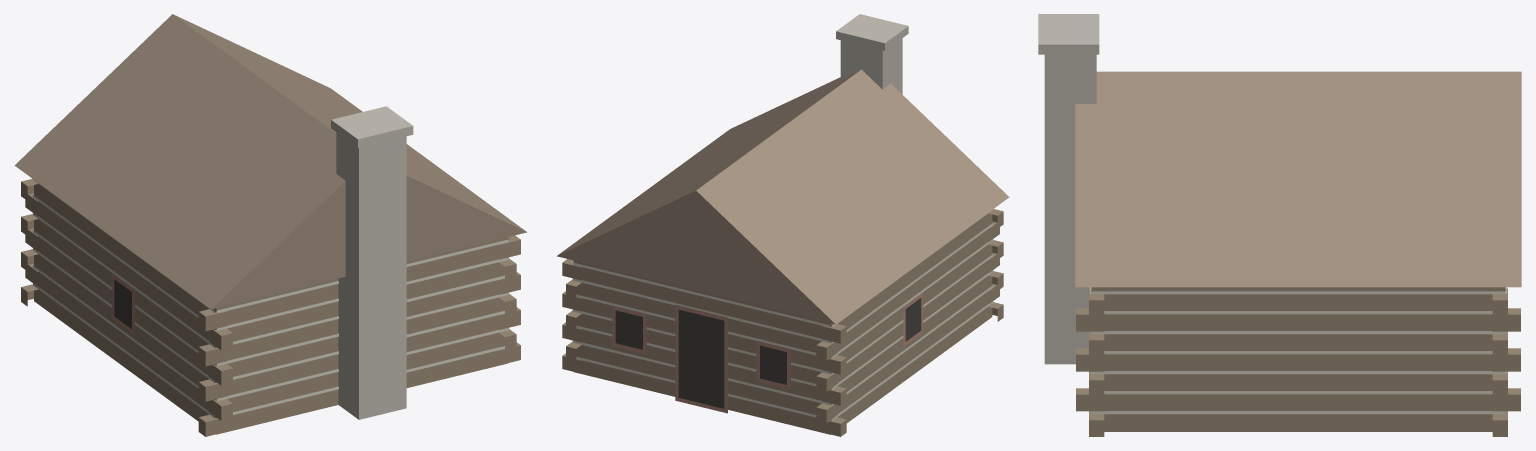
File: recon_1835_blk_south_water_lasalle_d1_08__inferred_1835.glb
3 views of the same model, side by side, from view 1: azimuth 30°, elevation 25°; view 2: azimuth 150°, elevation 25°; view 3: azimuth 270°, elevation 25° (orthographic). The views are drawn at different scales.
Parts seen in each view (by area): view 1: recon_1835_blk_south_water_lasalle_d1_08__inferred_1835; view 2: recon_1835_blk_south_water_lasalle_d1_08__inferred_1835; view 3: recon_1835_blk_south_water_lasalle_d1_08__inferred_1835.
Boxes of the visible parts, x1=… form: recon_1835_blk_south_water_lasalle_d1_08__inferred_1835: x1=14, y1=14, x2=526, y2=436; recon_1835_blk_south_water_lasalle_d1_08__inferred_1835: x1=557, y1=14, x2=1009, y2=436; recon_1835_blk_south_water_lasalle_d1_08__inferred_1835: x1=1038, y1=14, x2=1521, y2=436.
Size of the model in its own units: 6.4 by 5.54 by 7.46.
